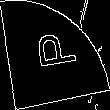P_W: (30, 32, 80, 78)
